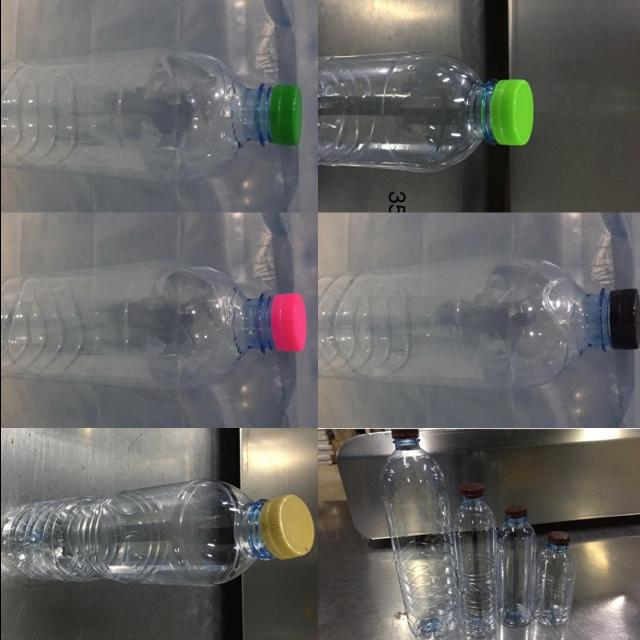plastik: (318, 255, 639, 391), (0, 49, 302, 183), (0, 261, 305, 390), (2, 479, 313, 587), (317, 51, 533, 173), (379, 429, 457, 640), (452, 483, 496, 640), (496, 505, 536, 627), (532, 531, 575, 635)
